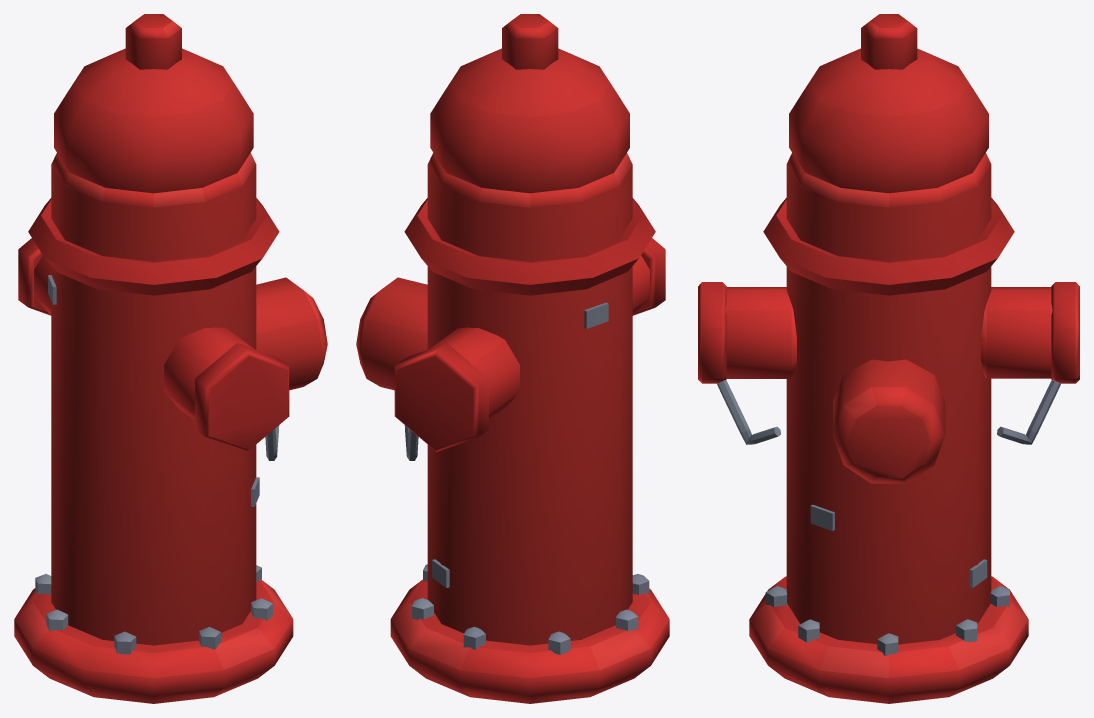
Rendered from SM_City_FireHydrant.fbx.
3 views of the same model, side by side, from view 1: azimuth 30°, elevation 25°; view 2: azimuth 150°, elevation 25°; view 3: azimuth 270°, elevation 25° (orthographic).
Parts seen in each view (by area): view 1: SM_City_FireHydrant; view 2: SM_City_FireHydrant; view 3: SM_City_FireHydrant.
Part boxes in pixels (x1,y1,x2,y2): SM_City_FireHydrant: [14, 14, 327, 703]; SM_City_FireHydrant: [356, 14, 669, 703]; SM_City_FireHydrant: [698, 14, 1079, 703].
Bounding box in the file's own units: 34.06 × 75.05 × 41.07.
